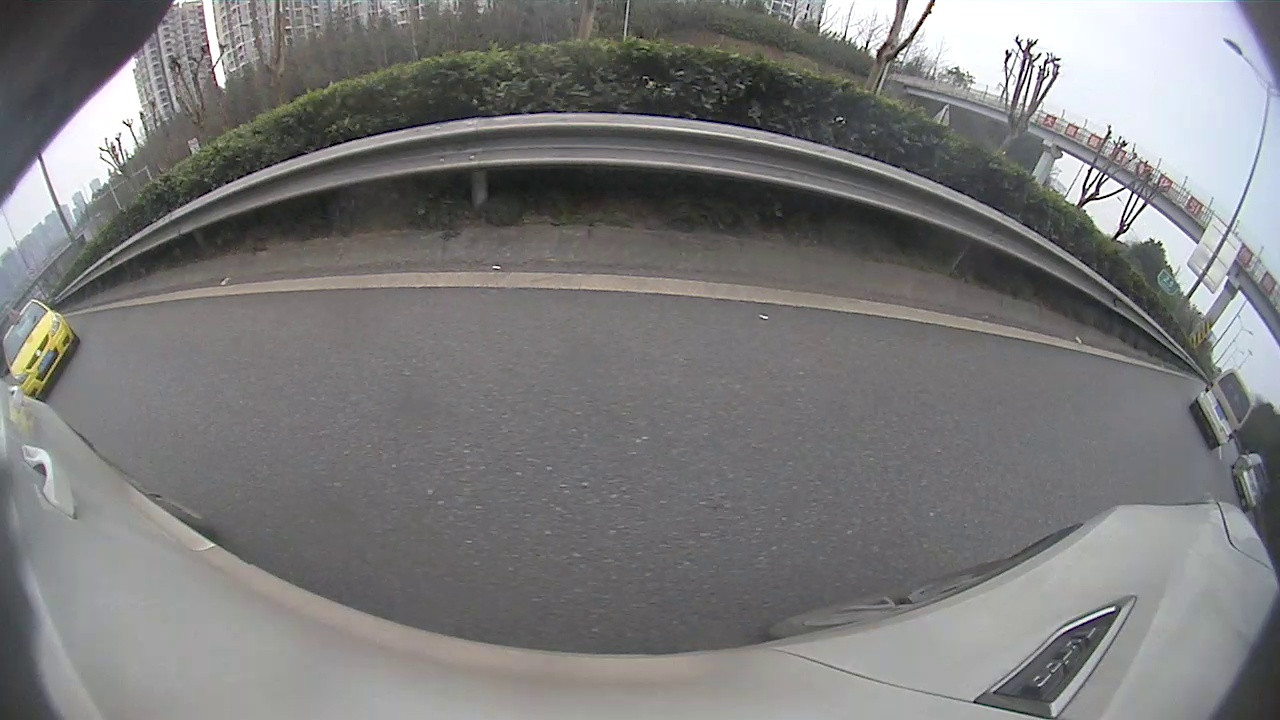car: (5, 297, 80, 401), (1190, 371, 1256, 451), (1232, 449, 1265, 514)
